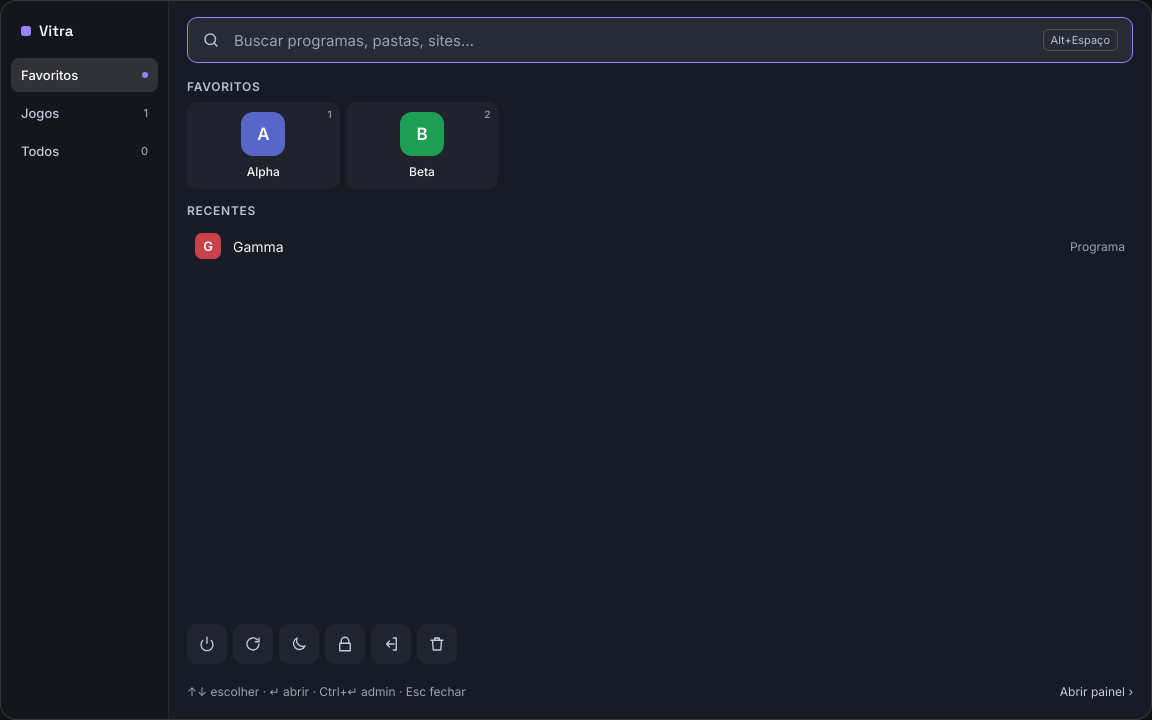
Test case: QuickLauncher com itens › erro ao abrir aparece e não esconde
Click the button "A Alpha 1": x=263, y=146 [187,102,340,189]
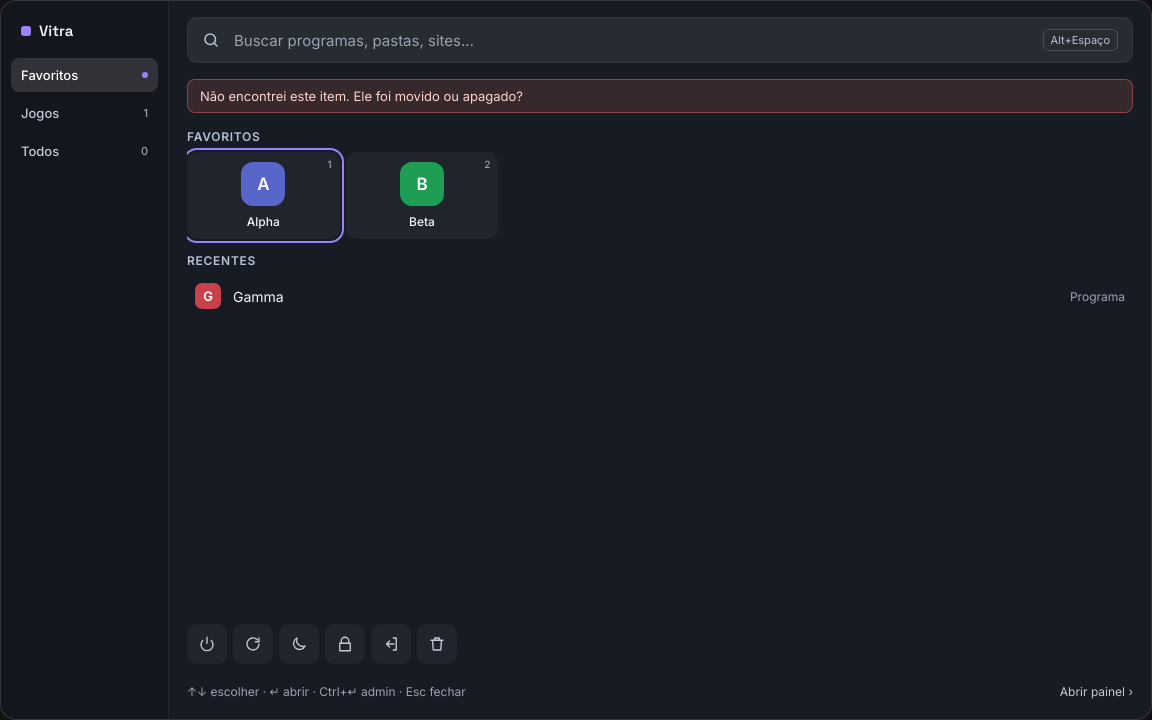
Check: the message shows "Não encontrei este item", box [200,88,523,104]
